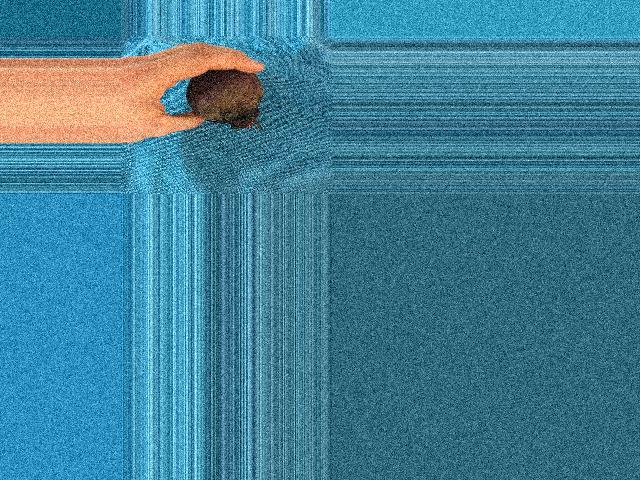beet: (187, 70, 263, 130)
